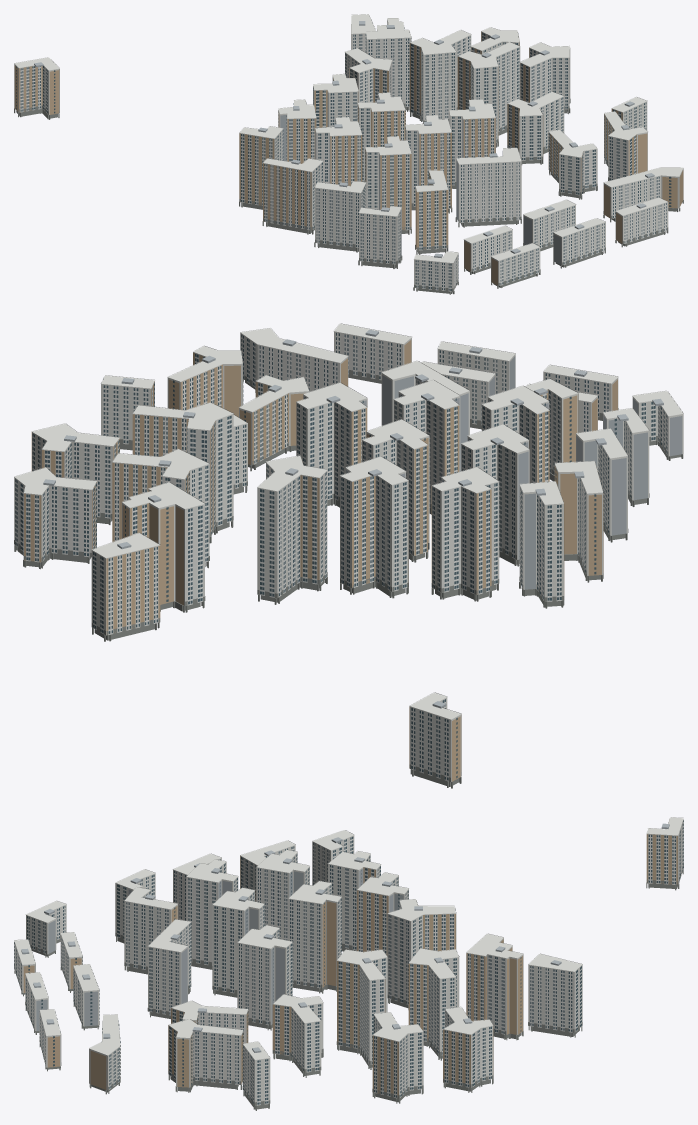
Rendered from representative-a10024831.glb.
3 renders of one model, top to bottom at view 1: azimuth 30°, elevation 25°; view 2: azimuth 150°, elevation 25°; view 3: azimuth 270°, elevation 25°, orthographic. The views are drawn at different scales.
Visible parts, largest first — view 1: A10024831_wall, A10024831_trim, A10024831_glass, A10024831_accent, A10024831_base, A10024831_roof; view 2: A10024831_wall, A10024831_trim, A10024831_glass, A10024831_accent, A10024831_roof, A10024831_base; view 3: A10024831_wall, A10024831_trim, A10024831_glass, A10024831_accent, A10024831_base, A10024831_roof.
Part boxes in pixels (box(x1,y1,x2,y2)): A10024831_wall: box(14, 14, 683, 291); A10024831_trim: box(14, 14, 680, 291); A10024831_glass: box(16, 20, 671, 290); A10024831_accent: box(14, 21, 683, 285); A10024831_base: box(14, 98, 683, 294); A10024831_roof: box(34, 21, 654, 264); A10024831_wall: box(14, 324, 683, 781); A10024831_trim: box(14, 323, 683, 781); A10024831_glass: box(15, 333, 667, 780); A10024831_accent: box(24, 340, 617, 781); A10024831_roof: box(43, 329, 682, 708); A10024831_base: box(14, 370, 683, 788); A10024831_wall: box(14, 817, 683, 1102); A10024831_trim: box(14, 817, 683, 1105); A10024831_glass: box(14, 820, 683, 1104); A10024831_accent: box(23, 834, 677, 1098); A10024831_base: box(14, 864, 683, 1110); A10024831_roof: box(21, 823, 669, 1052).
Size of the model in its own units: 395 by 70.2 by 468.
